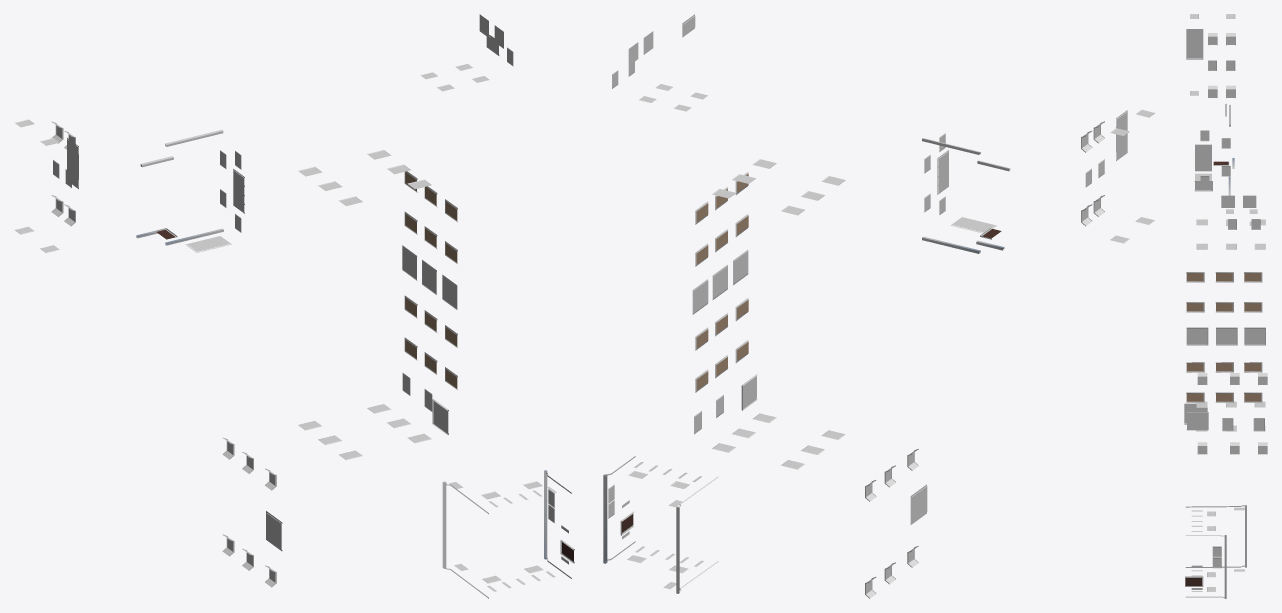
3 views of the same model, side by side, from view 1: azimuth 30°, elevation 25°; view 2: azimuth 150°, elevation 25°; view 3: azimuth 270°, elevation 25° (orthographic). The views are drawn at different scales.
Parts seen in each view (by area): view 1: SM_000297.001; view 2: SM_000297.001; view 3: SM_000297.001.
Boxes of the visible parts, x1,y1,x2,y2 form: SM_000297.001: (14, 14, 574, 598); SM_000297.001: (603, 14, 1155, 598); SM_000297.001: (1184, 14, 1267, 598).
Bounding box in the file's own units: 51.28 × 52.11 × 9.84.
